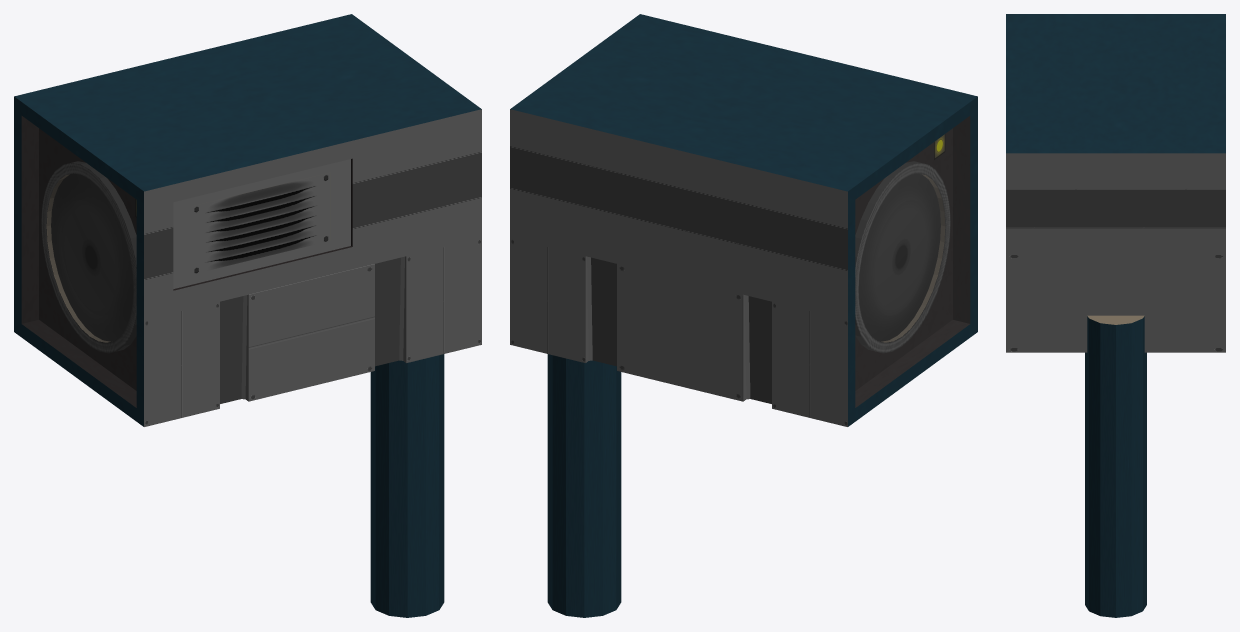
File: Head.fbx
3 views of the same model, side by side, from view 1: azimuth 30°, elevation 25°; view 2: azimuth 150°, elevation 25°; view 3: azimuth 270°, elevation 25° (orthographic). The views are drawn at different scales.
Parts seen in each view (by area): view 1: Cube.036; view 2: Cube.036; view 3: Cube.036.
Part boxes in pixels (x1,y1,x2,y2): Cube.036: [14, 14, 481, 617]; Cube.036: [510, 14, 977, 617]; Cube.036: [1006, 14, 1225, 617].
Bounding box in the file's own units: 427 × 609 × 267.
